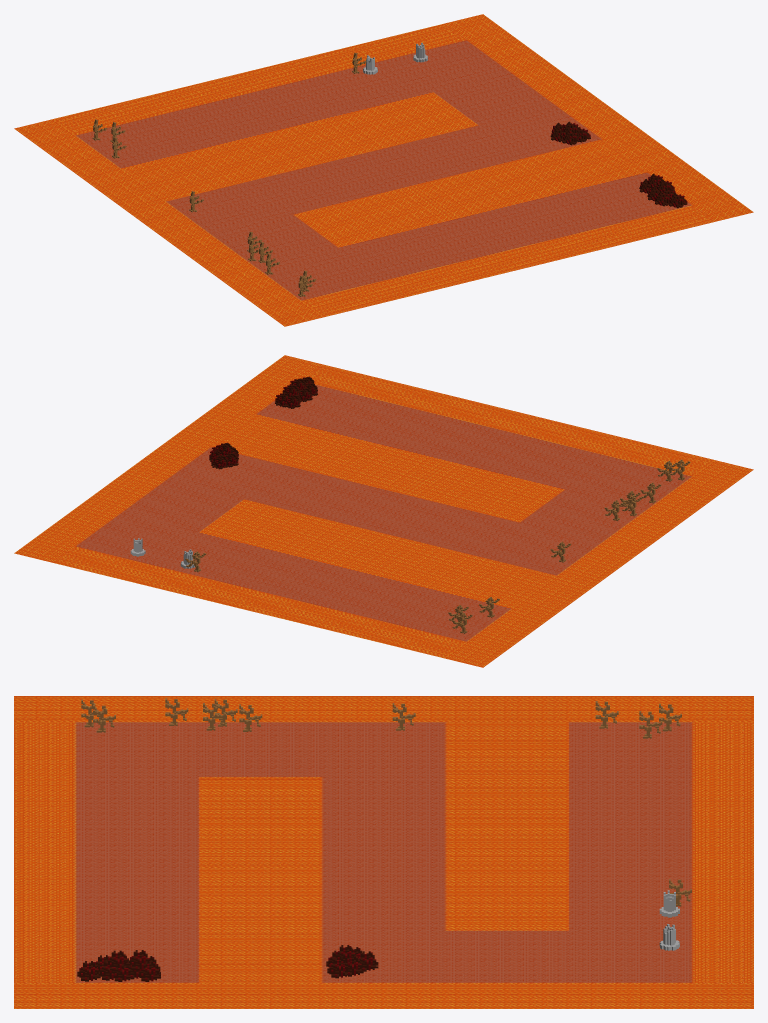
The model's file is Map11.fbx.
3 views of the same model, one above another, from view 1: azimuth 30°, elevation 25°; view 2: azimuth 150°, elevation 25°; view 3: azimuth 270°, elevation 25° (orthographic). The views are drawn at different scales.
Parts seen in each view (by area): view 1: pPlane1; view 2: pPlane1; view 3: pPlane1.
Boxes of the visible parts, x1=… form: pPlane1: x1=14, y1=14, x2=753, y2=326; pPlane1: x1=14, y1=355, x2=753, y2=667; pPlane1: x1=14, y1=696, x2=753, y2=1008.
Bounding box in the file's own units: 60 × 2.35 × 60.
